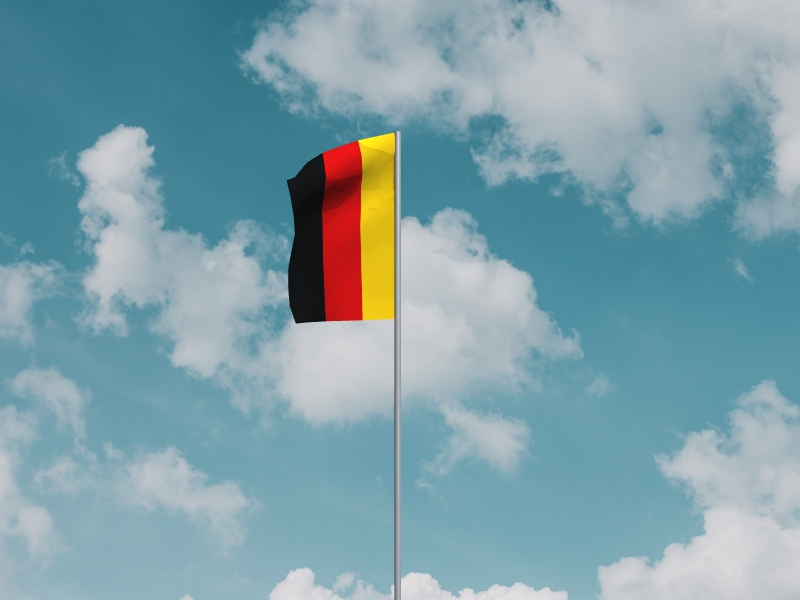de: (286, 133, 395, 326)
